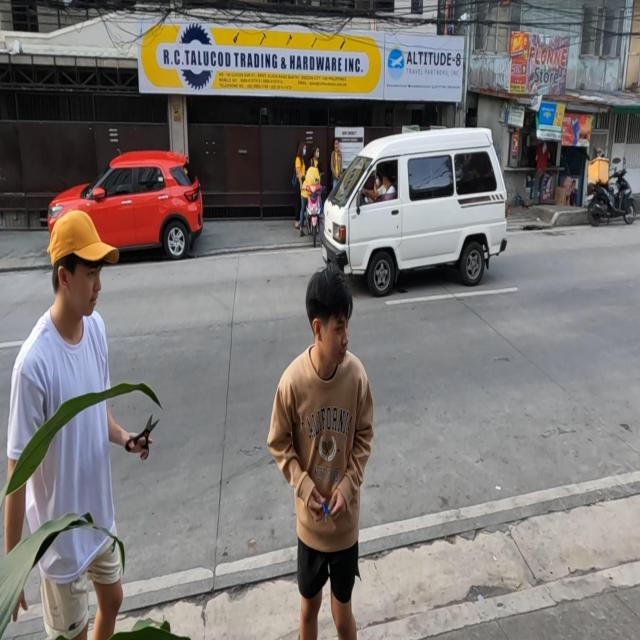scissor: (125, 412, 160, 462), (321, 500, 331, 527)
